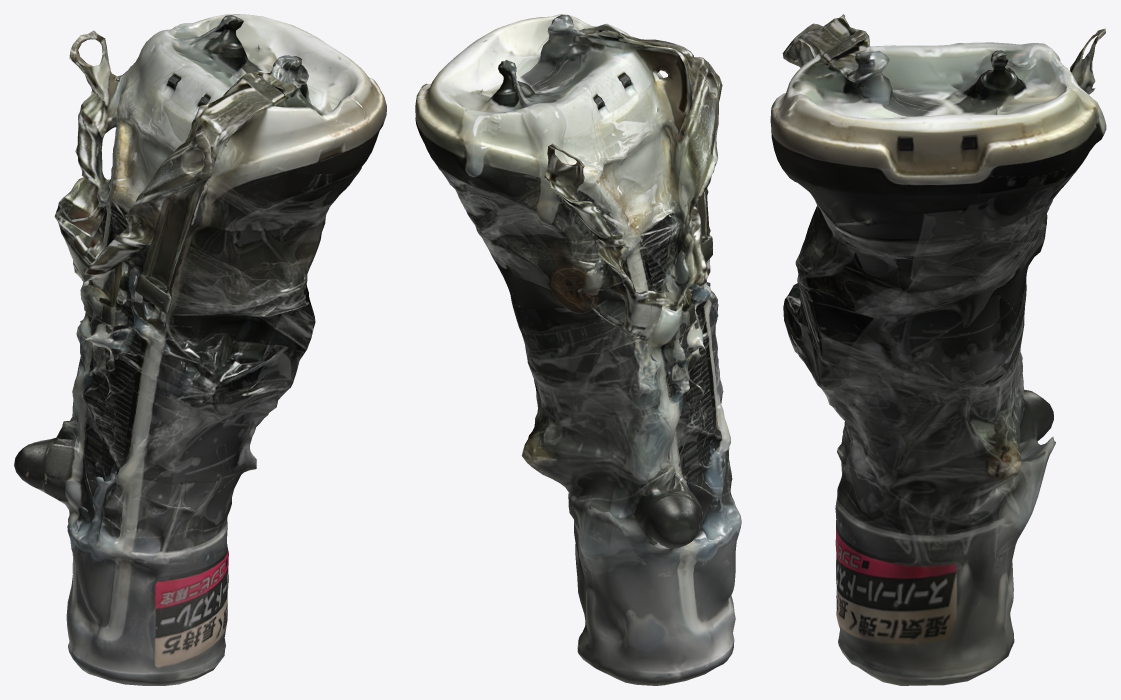
3 views of the same model, side by side, from view 1: azimuth 30°, elevation 25°; view 2: azimuth 150°, elevation 25°; view 3: azimuth 270°, elevation 25° (orthographic). The views are drawn at different scales.
Parts seen in each view (by area): view 1: P8; view 2: P8; view 3: P8.
Part boxes in pixels (left/top/right/bottom): P8: left=14, top=14, right=386, bottom=685; P8: left=415, top=14, right=741, bottom=685; P8: left=770, top=14, right=1106, bottom=685.
Size of the model in its own units: 0.3378 by 0.6693 by 0.3004.
Materials: 1 (1 with a texture image).
